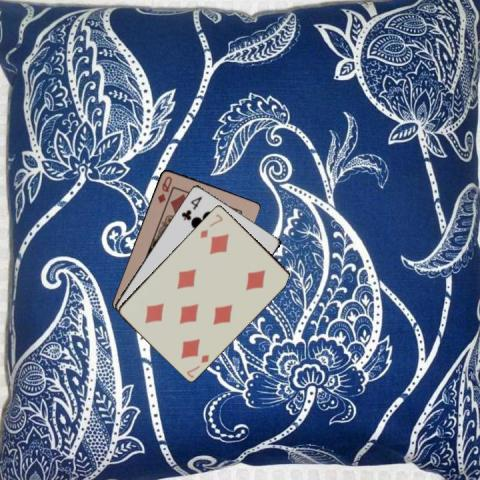4c: (179, 194, 203, 222)
7d: (196, 211, 224, 239), (183, 352, 211, 380)
Qd: (154, 172, 173, 204)
